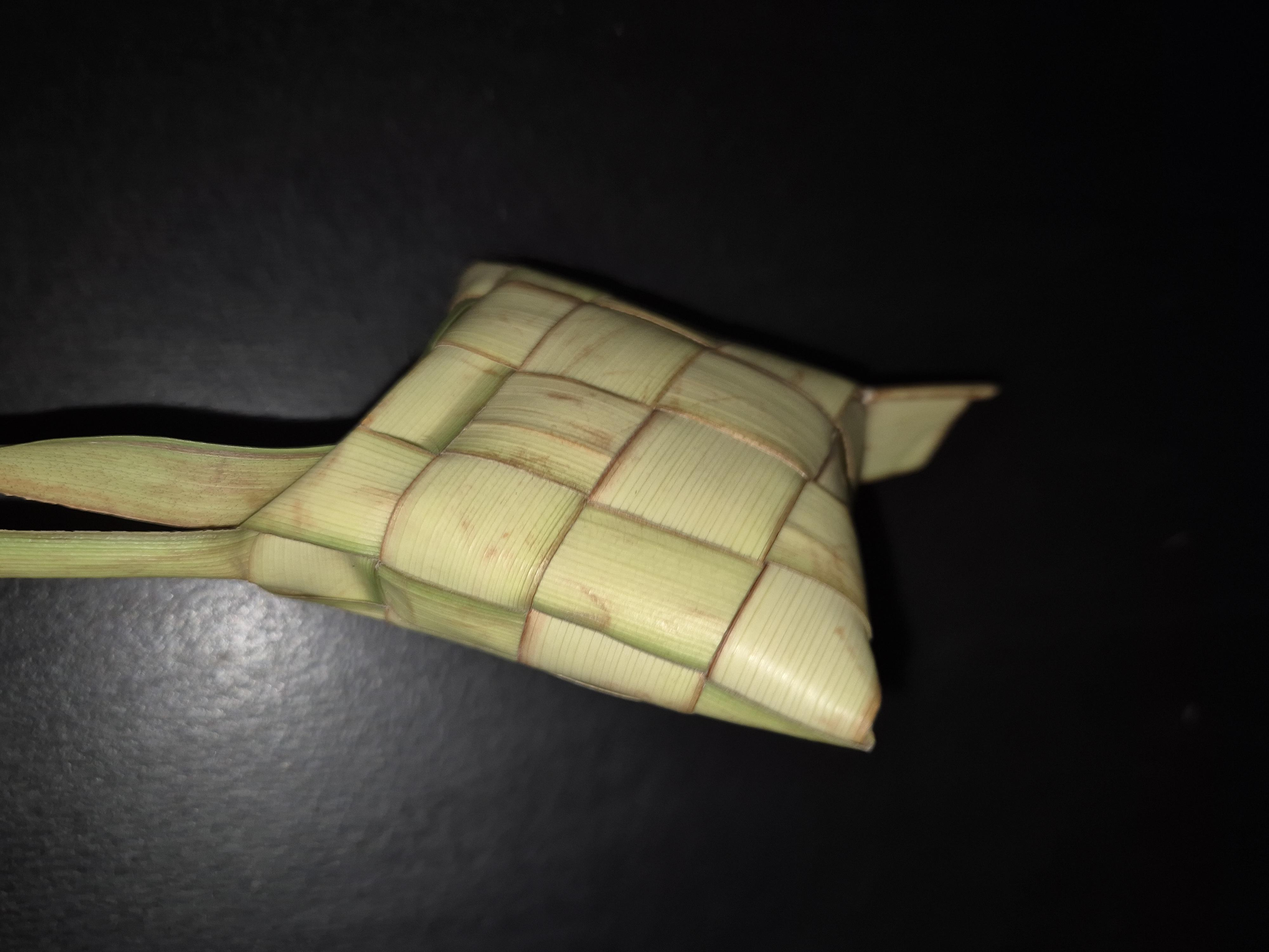Tipat Nasi: (275, 182, 916, 660)
